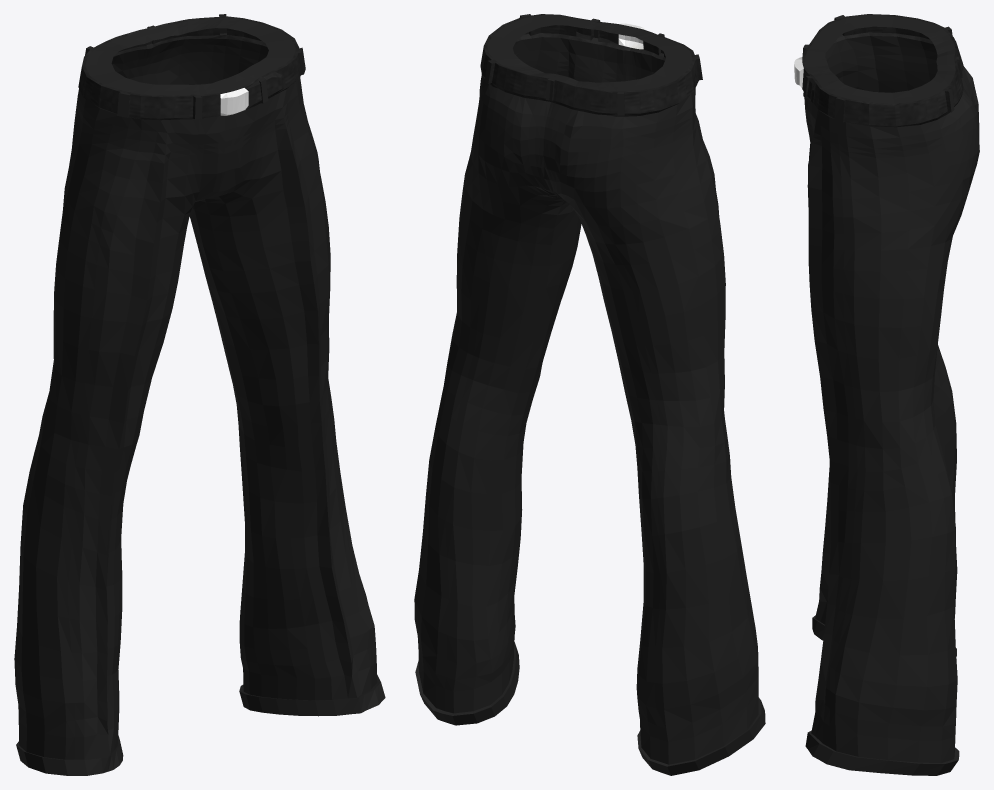
Rendered from mhw_elvs_male_trouser.glb.
3 views of the same model, side by side, from view 1: azimuth 30°, elevation 25°; view 2: azimuth 150°, elevation 25°; view 3: azimuth 270°, elevation 25° (orthographic). The views are drawn at different scales.
Parts seen in each view (by area): view 1: mhw_elvs_male_trouser; view 2: mhw_elvs_male_trouser; view 3: mhw_elvs_male_trouser.
Part boxes in pixels (x1,y1,x2,y2): mhw_elvs_male_trouser: (14, 14, 385, 775); mhw_elvs_male_trouser: (414, 14, 765, 775); mhw_elvs_male_trouser: (794, 14, 979, 775).
Size of the model in its own units: 0.5639 by 1.1 by 0.2817.
1 material, 1 textured.
